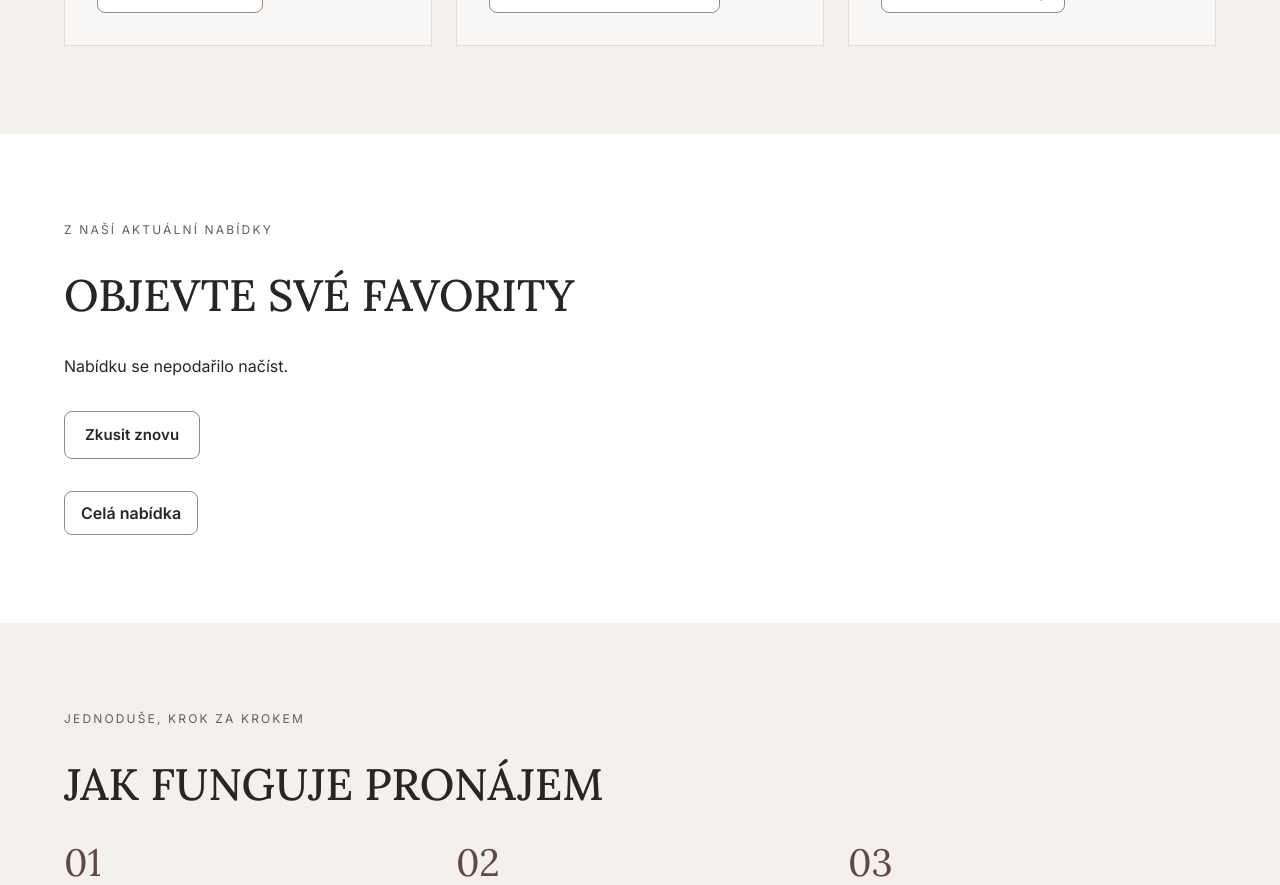
Test: failed catalogue has retry and genuine empty state
(page scrolled)
Expected: the message shows "Nabídku se nepodařilo načíst", [64,356,288,376]
Step 1. Click the button "Zkusit znovu" → (132, 435), box [64,411,200,459]
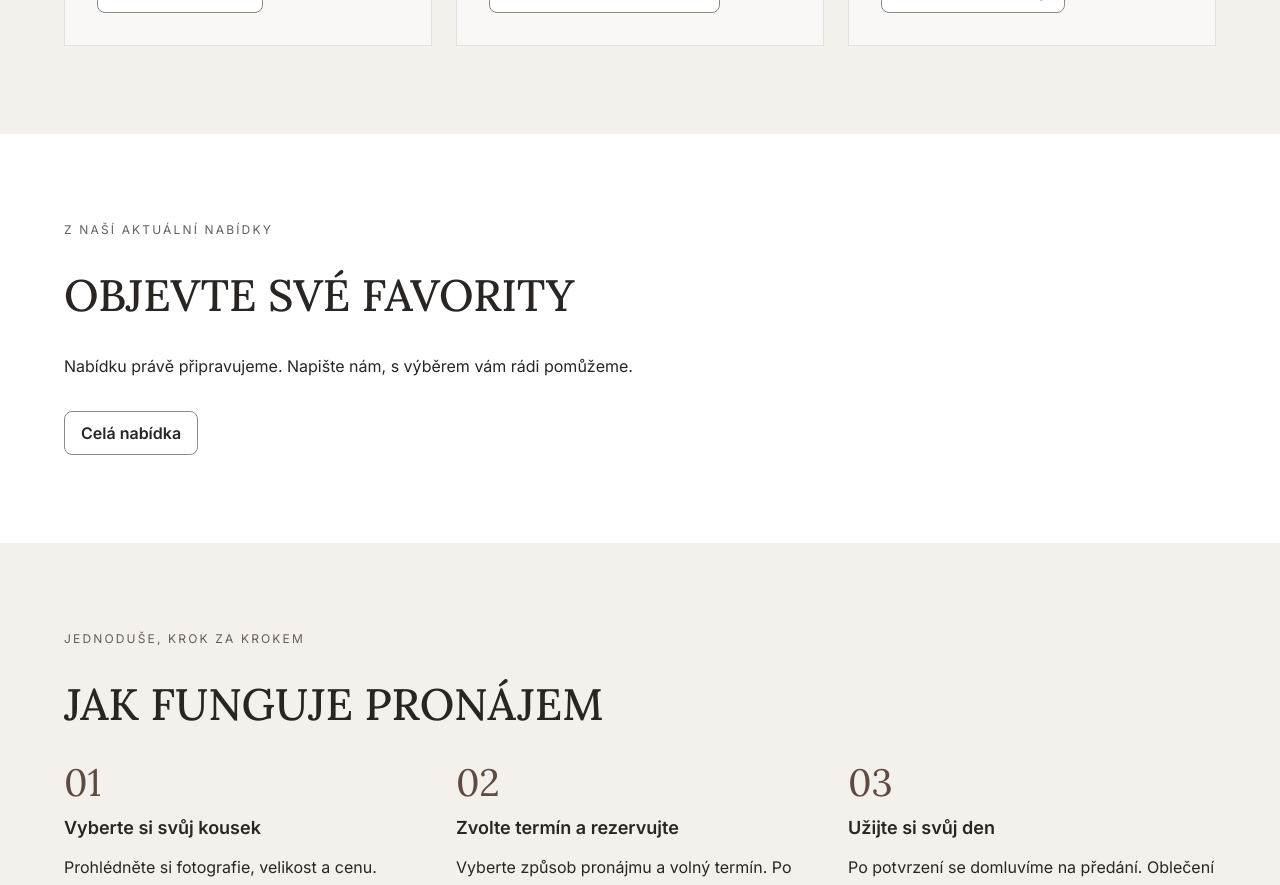
Expected: the text "Nabídku právě připravujeme" is shown, [64,356,633,376]
